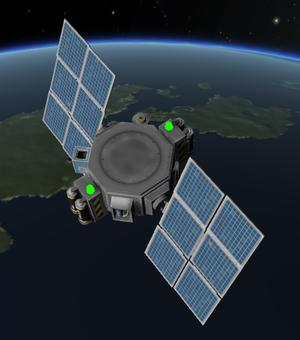body: (64, 110, 199, 225)
solar: (142, 155, 268, 327), (40, 16, 118, 163)
